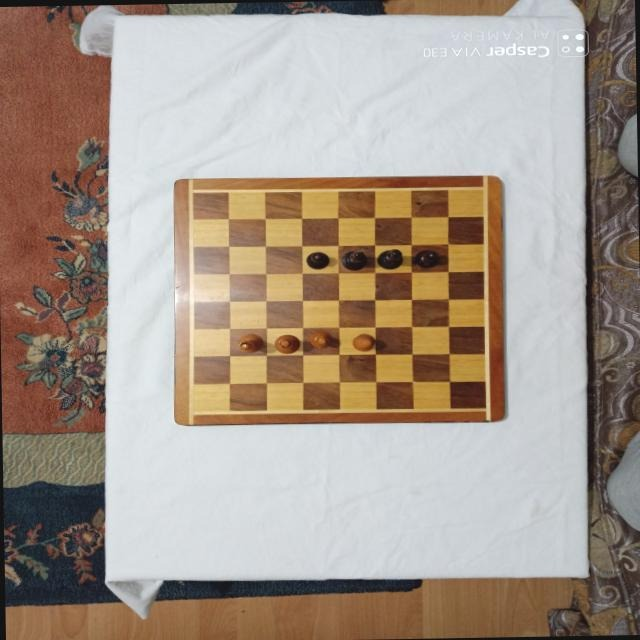black-bishop: (340, 249, 367, 270), (376, 248, 404, 268)
black-pawn: (413, 248, 438, 267), (306, 250, 330, 268)
white-bishop: (273, 332, 301, 352), (237, 332, 263, 352)
white-pawn: (352, 332, 376, 350), (309, 329, 333, 347)
